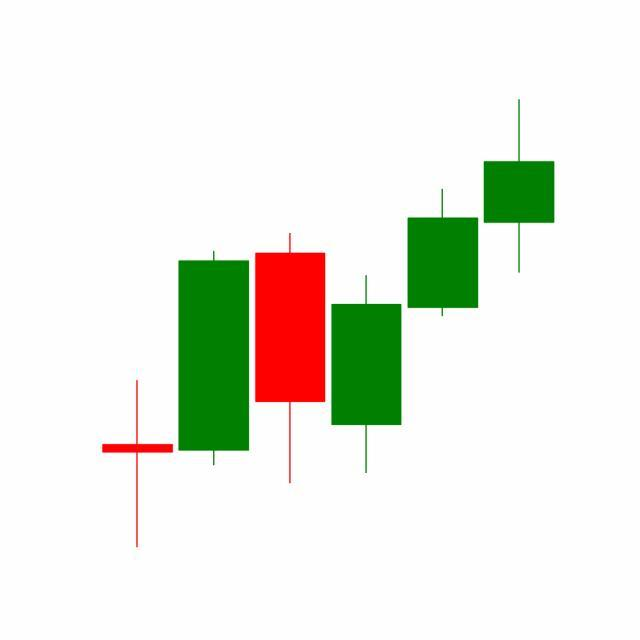Advance Block: (326, 100, 555, 479)
